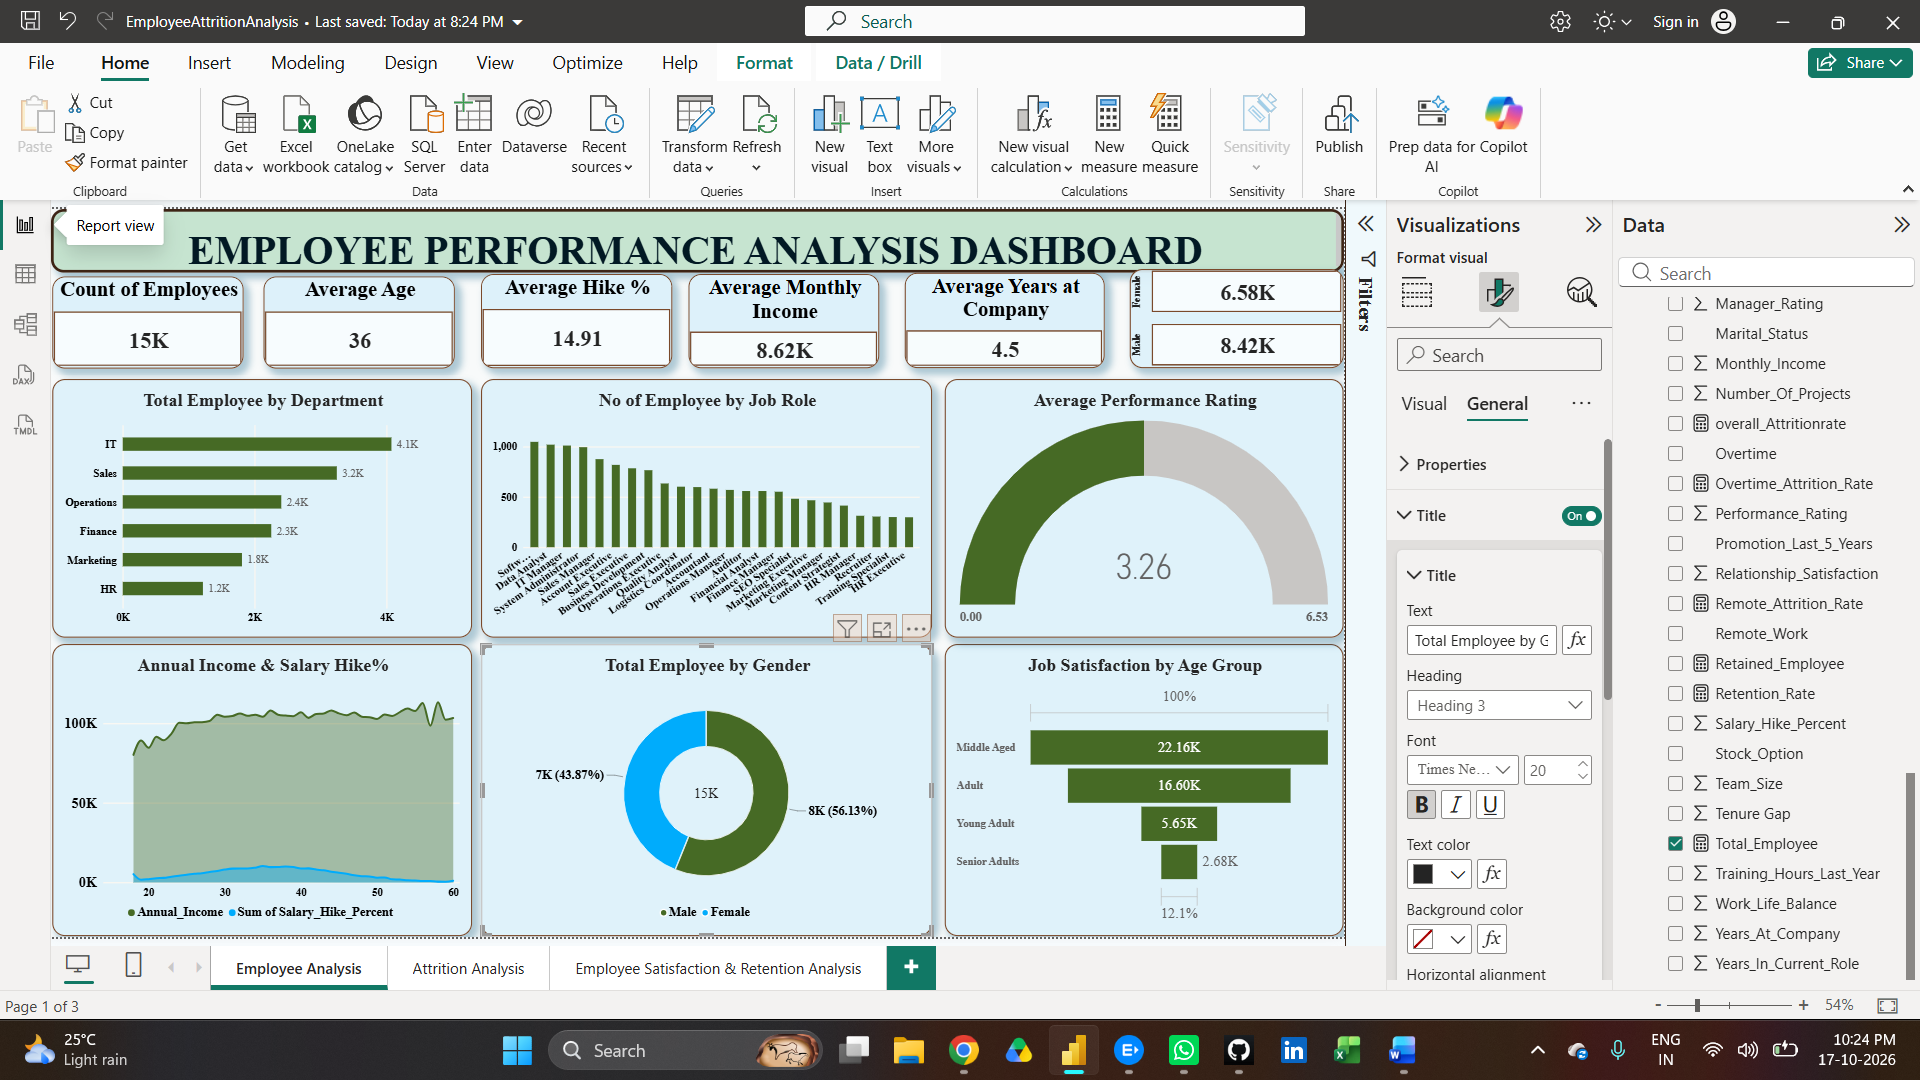

Layout of this report page (visuals, bound fields, positions):
{"tool":"powerbi","page":{"name":"Employee Analysis","canvas":[1920,1080],"ordinal":0},"visuals":[{"type":"textbox","box":[0,0,1919.2,94.2],"z":0},{"type":"cardVisual","title":"Count of Employees","fields":{"Data":["CountNonNull(Table1.Employee_ID)"]},"box":[1.8,99.6,284.1,136.5],"z":1000},{"type":"cardVisual","title":"Average Age","fields":{"Data":["Avg(Table1.Age)"]},"box":[315.5,99.6,284.1,136.5],"z":2000},{"type":"cardVisual","title":"Average Hike %","fields":{"Data":["Table1.Averrage_Salary_Hike%"]},"box":[638.3,95.9,284.1,140.2],"z":3000},{"type":"cardVisual","title":"Average Monthly Income","fields":{"Data":["Avg(Table1.Monthly_Income)"]},"box":[945.8,95.7,283.4,139.8],"z":4000},{"type":"cardVisual","title":"Average Years at Company","fields":{"Data":["Avg(Table1.Years_At_Company)"]},"box":[1267.5,93.8,296.8,141.7],"z":5000},{"type":"cardVisual","fields":{"Data":["CountNonNull(Table1.Employee_ID)"],"Rows":["Table1.Gender","Table1.Gender"]},"box":[1601.2,88.5,317.3,147.6],"z":6000},{"type":"barChart","title":"Total Employee by Department","fields":{"Category":["Table1.Department"],"Y":["Table1.Total_Employee"]},"box":[1.8,252.7,623.5,383.7],"z":7000},{"type":"columnChart","title":"No of Employee by Job Role","fields":{"Category":["Table1.Job_Role"],"Y":["CountNonNull(Table1.Employee_ID)"]},"box":[638.3,252.7,669.6,383.7],"z":8000},{"type":"areaChart","title":"Annual Income & Salary Hike%","fields":{"Category":["Table1.Age"],"Y":["Table1.Annual_Income","Sum(Table1.Salary_Hike_Percent)"]},"box":[1.8,645.7,623.5,433.5],"z":9000},{"type":"donutChart","title":"Total Employee by Gender","fields":{"Category":["Table1.Gender"],"Y":["Table1.Total_Employee"]},"box":[638.3,645.7,669.6,433.5],"z":10000},{"type":"funnel","title":"Job Satisfaction by Age Group","fields":{"Category":["Attrition Analysis.Age Group"],"Y":["Sum(Attrition Analysis.Average Job Satisfaction)"]},"box":[1326.4,645.7,592.2,433.5],"z":11000},{"type":"gauge","title":"Average Performance Rating","fields":{"Y":["Avg(Table1.Performance_Rating)"]},"box":[1326.4,252.7,592.2,383.7],"z":12000}]}

Visuals, with their boxes on the page's 1920x1080 design canvas (x1, y1, x2, y2). These are canvas units, not pixel positions in the 1920x1080 screenshot, which may show the page scaled, cropped or inside an application window:
textbox: 0:0:1919:94
"Count of Employees" cardVisual: 2:100:286:236
"Average Age" cardVisual: 316:100:600:236
"Average Hike %" cardVisual: 638:96:922:236
"Average Monthly Income" cardVisual: 946:96:1229:236
"Average Years at Company" cardVisual: 1268:94:1564:236
cardVisual - CountNonNull(Table1.Employee_ID) x Table1.Gender: 1601:88:1918:236
"Total Employee by Department" barChart: 2:253:625:636
"No of Employee by Job Role" columnChart: 638:253:1308:636
"Annual Income & Salary Hike%" areaChart: 2:646:625:1079
"Total Employee by Gender" donutChart: 638:646:1308:1079
"Job Satisfaction by Age Group" funnel: 1326:646:1919:1079
"Average Performance Rating" gauge: 1326:253:1919:636
